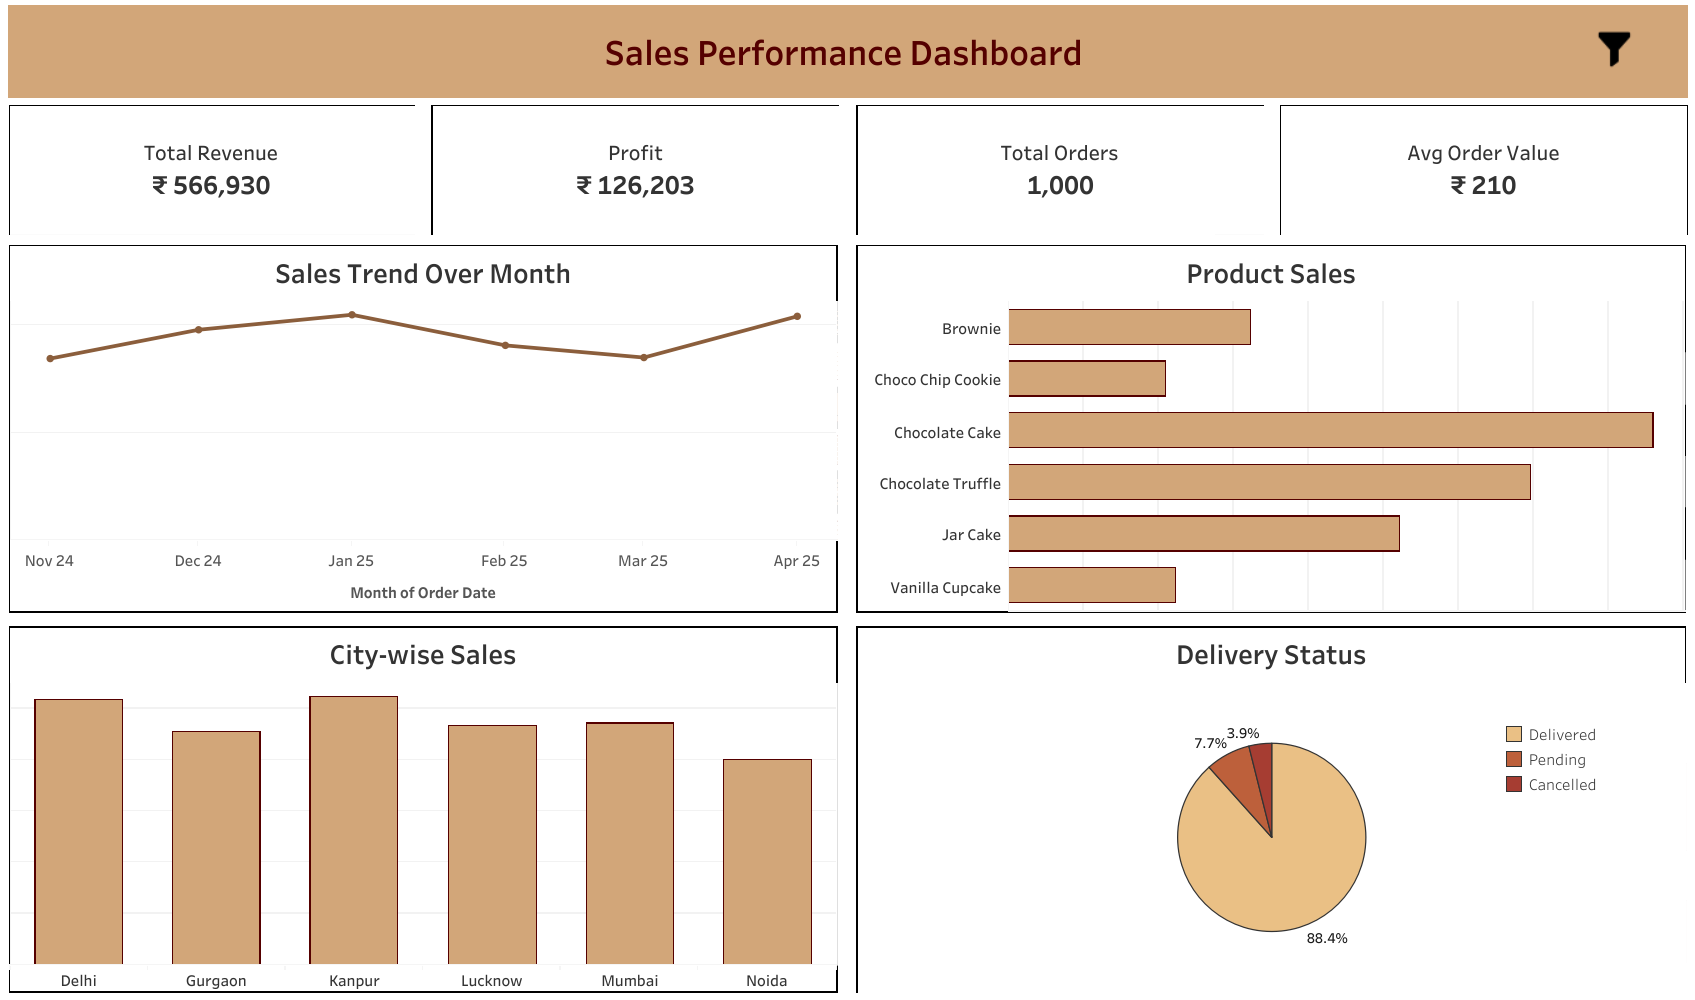

What the dashboard file says about the page in this screenshot:
{"tool":"tableau","page":{"name":"Dashboard 1","canvas":[1357,801],"ordinal":0},"visuals":[{"type":"text","box":[370.7,17,608.2,48]},{"type":"dashboard-object","box":[1276,24.9,31.7,29.3]},{"type":"filter","title":"Sheet 5","param":"[federated.1a43gnj115loxx1c2jehe1e13437].[tmn:Order_Date:qk]","box":[1003.1,33.8,272.9,50.7]},{"type":"worksheet","title":"Sheet 1","mark":"Automatic","box":[6.5,83.6,326,104.9]},{"type":"worksheet","title":"Sheet 1 (2)","mark":"Automatic","box":[344.6,83.6,326,104.9]},{"type":"worksheet","title":"Sheet 2","mark":"Automatic","box":[684.6,83.6,326,104.9]},{"type":"worksheet","title":"Sheet 2 (2)","mark":"Automatic","box":[1023.6,83.6,326,104.9]},{"type":"filter","title":"Sheet 4","param":"[federated.1a43gnj115loxx1c2jehe1e13437].[none:Customer_City:nk]","box":[1003.1,84.5,272.9,53.9]},{"type":"filter","title":"Sheet 3","param":"[federated.1a43gnj115loxx1c2jehe1e13437].[none:Product:nk]","box":[1003.1,138.4,272.9,53.9]},{"type":"filter","title":"Sheet 6","param":"[federated.1a43gnj115loxx1c2jehe1e13437].[none:Delivery_Status:nk]","box":[1003.1,192.3,272.9,53.9]},{"type":"worksheet","title":"Sheet 5","mark":"Automatic","rows":["total_price"],"cols":["Order_Date"],"box":[6.5,195.6,663.1,294.3]},{"type":"worksheet","title":"Sheet 3","mark":"Automatic","rows":["Product"],"cols":["total_price"],"box":[685.5,195.6,663.1,294.3]},{"type":"worksheet","title":"Sheet 4","mark":"Bar","rows":["total_price"],"cols":["Customer_City"],"box":[6.5,500.5,663.1,293.4]},{"type":"worksheet","title":"Sheet 6","mark":"Pie","box":[685.5,500.5,663.1,293.4]},{"type":"legend","title":"Sheet 6","param":"[federated.1a43gnj115loxx1c2jehe1e13437].[none:Delivery_Status:nk]","box":[1200.5,577,111.8,66.7]}]}

Visuals, with their boxes in screenshot pixels (x1, y1, x2, y2), scaled from the page's 1357x801 canvas onto the 1695x1000 screenshot:
text: [x1=463, y1=21, x2=1223, y2=81]
dashboard-object: [x1=1594, y1=31, x2=1633, y2=68]
"Sheet 5" filter: [x1=1253, y1=42, x2=1594, y2=105]
"Sheet 1" worksheet: [x1=8, y1=104, x2=415, y2=235]
"Sheet 1 (2)" worksheet: [x1=430, y1=104, x2=838, y2=235]
"Sheet 2" worksheet: [x1=855, y1=104, x2=1262, y2=235]
"Sheet 2 (2)" worksheet: [x1=1279, y1=104, x2=1686, y2=235]
"Sheet 4" filter: [x1=1253, y1=105, x2=1594, y2=173]
"Sheet 3" filter: [x1=1253, y1=173, x2=1594, y2=240]
"Sheet 6" filter: [x1=1253, y1=240, x2=1594, y2=307]
"Sheet 5" worksheet: [x1=8, y1=244, x2=836, y2=612]
"Sheet 3" worksheet: [x1=856, y1=244, x2=1685, y2=612]
"Sheet 4" worksheet (Bar marks): [x1=8, y1=625, x2=836, y2=991]
"Sheet 6" worksheet (Pie marks): [x1=856, y1=625, x2=1685, y2=991]
"Sheet 6" legend: [x1=1500, y1=720, x2=1639, y2=804]
